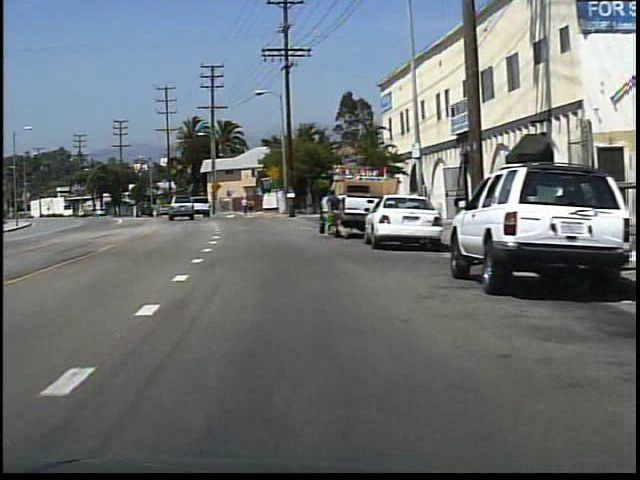person: (321, 185, 344, 242), (239, 195, 248, 217), (246, 196, 256, 215)
